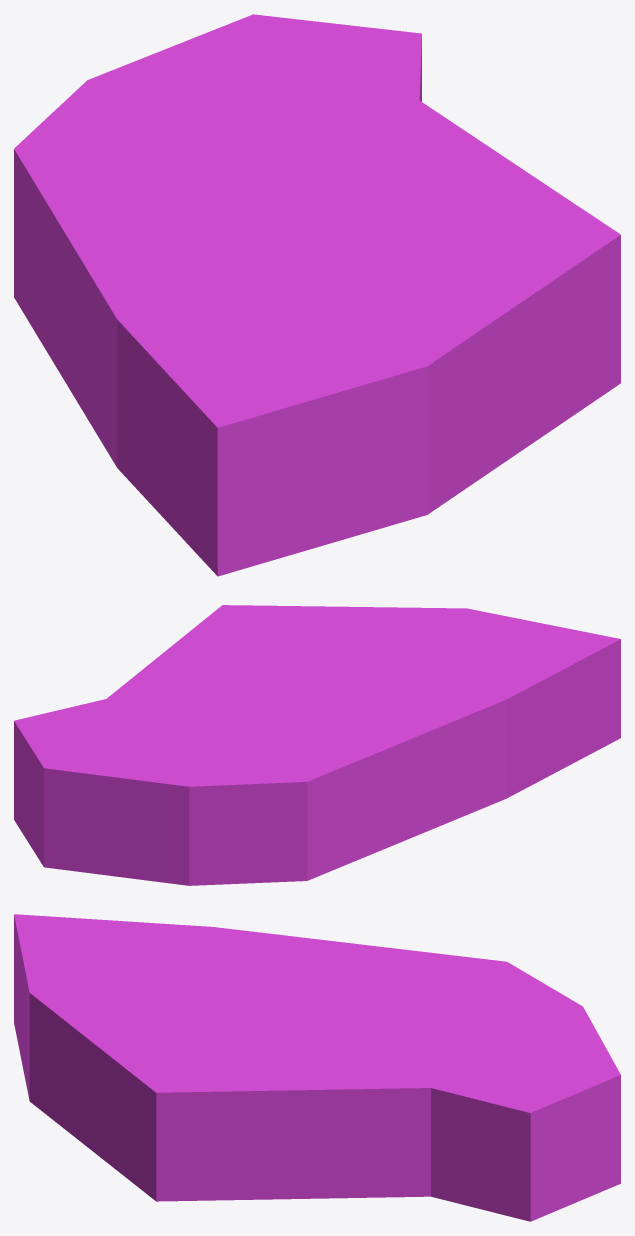
File: ElementSpawningPlot1.fbx
The picture shows the model from 3 angles, top to bottom: view 1: azimuth 30°, elevation 25°; view 2: azimuth 150°, elevation 25°; view 3: azimuth 270°, elevation 25°; orthographic projection. The views are drawn at different scales.
Parts seen in each view (by area): view 1: Element Spawning Plot 1; view 2: Element Spawning Plot 1; view 3: Element Spawning Plot 1.
Part boxes in pixels (box(x1,y1,x2,y2)): Element Spawning Plot 1: box(14, 14, 620, 576); Element Spawning Plot 1: box(14, 605, 620, 885); Element Spawning Plot 1: box(14, 914, 620, 1221).
Bounding box in the file's own units: 395 × 101 × 510.
